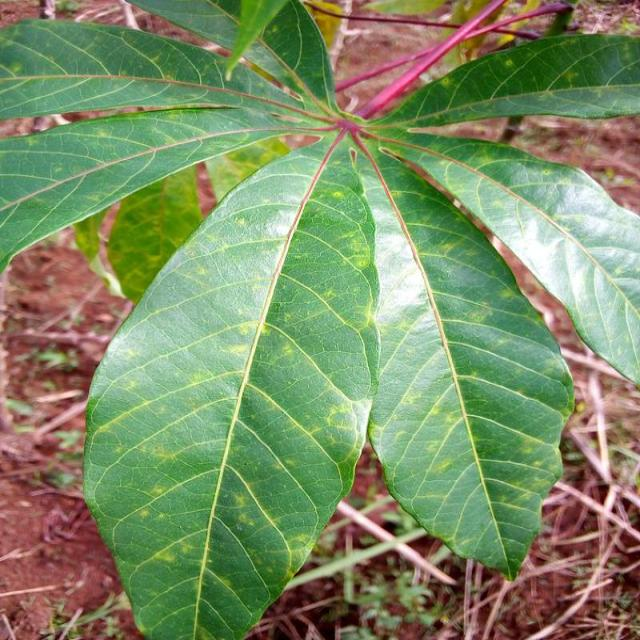cassava leaf: (80, 132, 382, 638), (350, 136, 576, 582)
